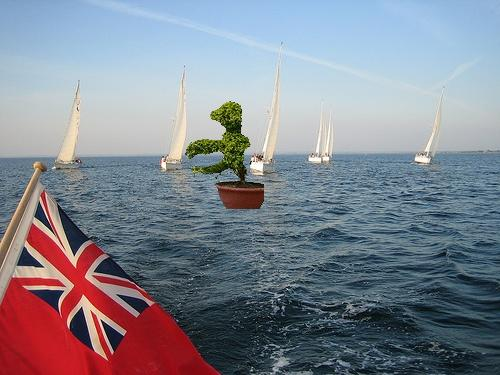tampered: (186, 102, 264, 209)
